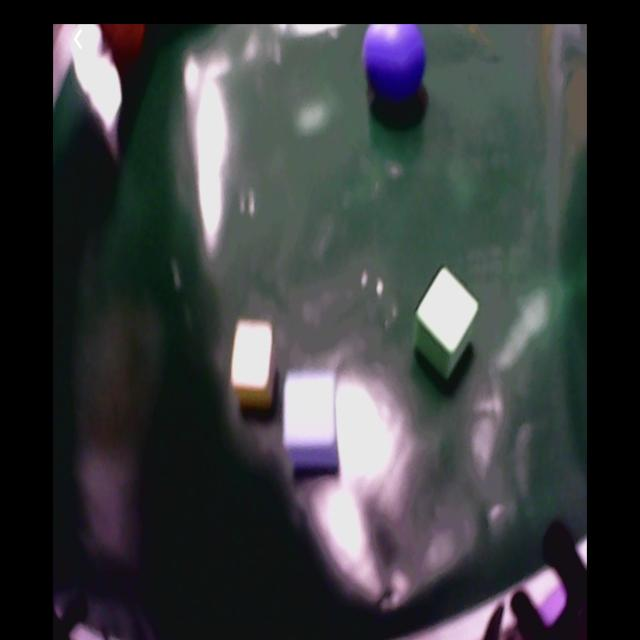ball: (362, 21, 426, 106)
